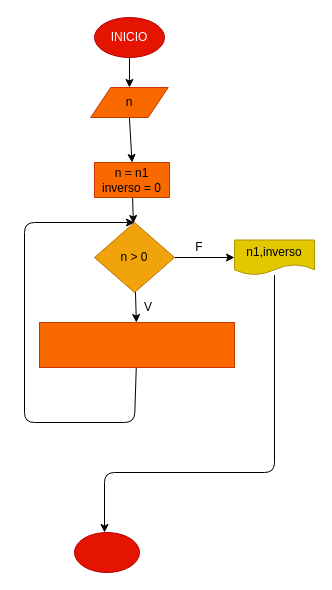
Some shapes in this 332 by 590 pixel diagram are drawn without their labels. Here are the shapes that lost their labels. From the top down, the centre of each, then its label:
At [136,345]: "ultm_num = n % 10 inverso = inverso *10 + ultm_num n = n // 10".
At [107,552]: "FIN".
